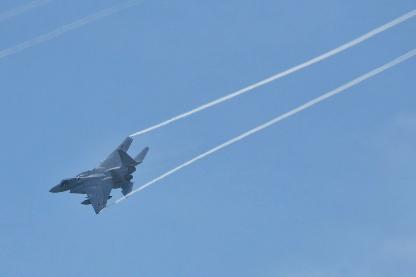F117: (48, 136, 150, 213)
